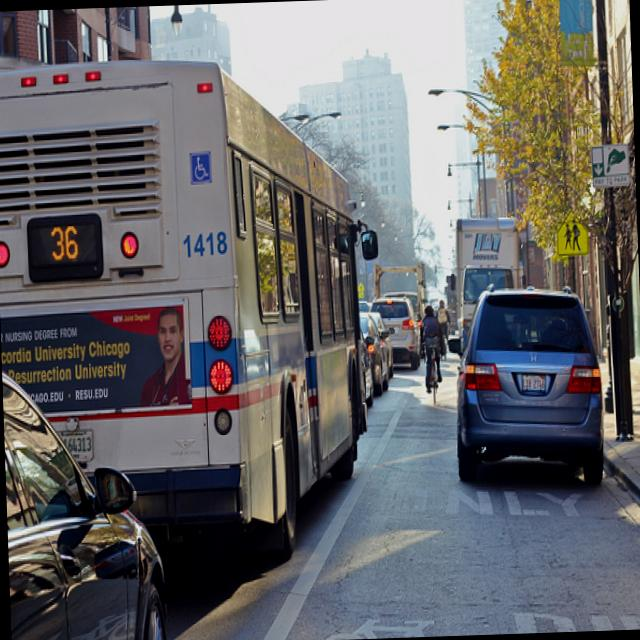Vehicle: (0, 60, 389, 570), (1, 353, 167, 640), (448, 278, 610, 495), (454, 216, 520, 354), (366, 298, 424, 370), (372, 261, 427, 329), (360, 315, 390, 395), (368, 311, 394, 378), (359, 330, 374, 408)
